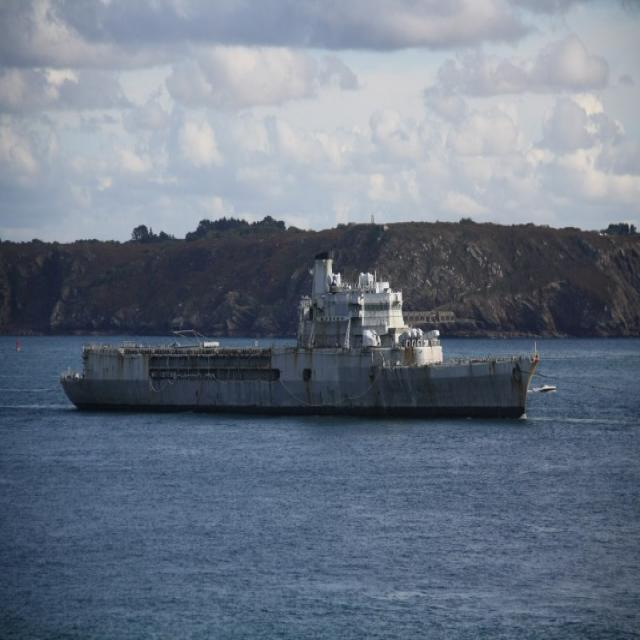Portanaves: (56, 253, 542, 429)
